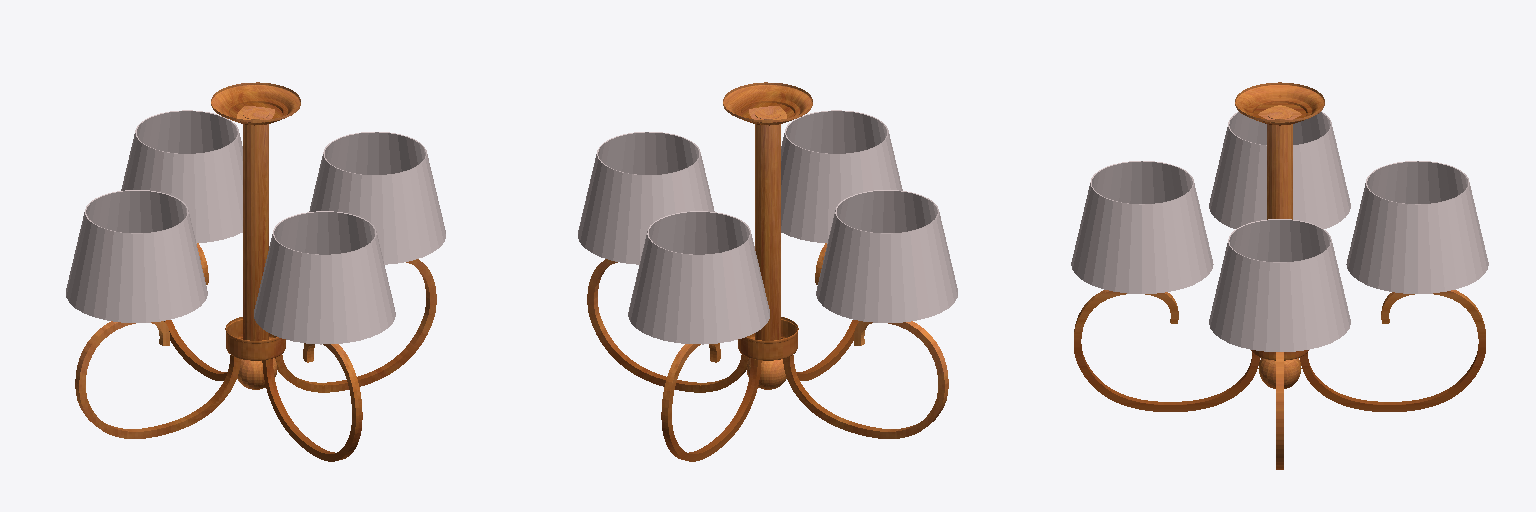
3 renders of one model, left to right at view 1: azimuth 30°, elevation 25°; view 2: azimuth 150°, elevation 25°; view 3: azimuth 270°, elevation 25°, orthographic.
Parts seen in each view (by area): view 1: Lampara1:torsher_Cylinder_014_torsher; view 2: Lampara1:torsher_Cylinder_014_torsher; view 3: Lampara1:torsher_Cylinder_014_torsher.
Boxes of the visible parts, box(x1,y1,x2,y2) form: Lampara1:torsher_Cylinder_014_torsher: box(66, 82, 445, 461); Lampara1:torsher_Cylinder_014_torsher: box(578, 82, 957, 461); Lampara1:torsher_Cylinder_014_torsher: box(1071, 82, 1488, 469).
Bounding box in the file's own units: 1.21 × 0.9856 × 1.21.
2 materials, 2 textured.